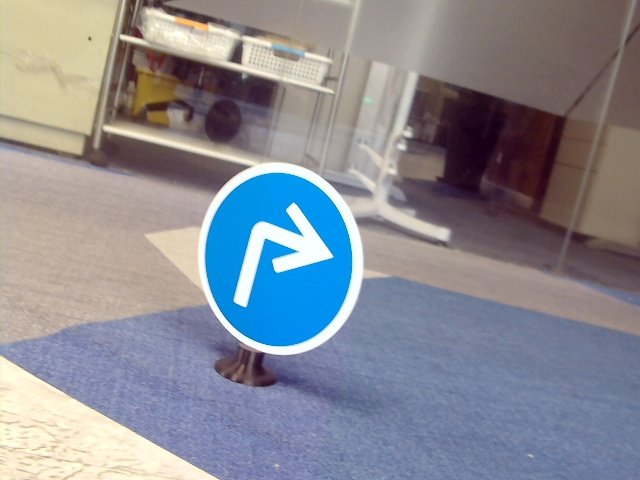turn_right: (224, 201, 334, 310)
